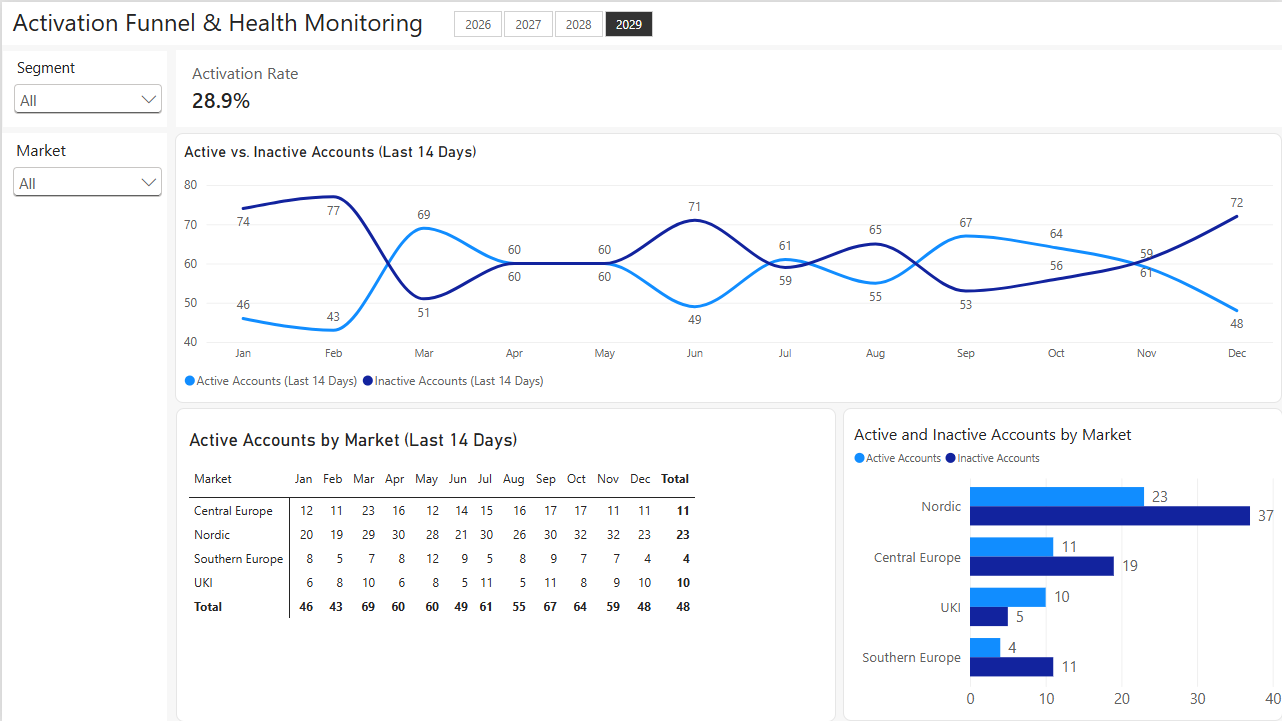

The page's visual inventory and layout, read from the dashboard file:
{"tool":"powerbi","page":{"name":" Activation Funnel & Health Monitoring","canvas":[1280,720],"ordinal":3},"visuals":[{"type":"textbox","box":[0,0,1280.4,43.5],"z":0},{"type":"slicer","fields":{"Values":["dim_date.Year"]},"box":[431,7,239,30],"z":1000},{"type":"slicer","fields":{"Values":["dim_date.Month (Short)"]},"box":[670,7,601,30],"z":2000},{"type":"cardVisual","fields":{"Data":["_Measures.Activation Rate"]},"box":[174.1,48.3,1106,76.7],"z":3000},{"type":"lineChart","title":"Active vs. Inactive Accounts (Last 14 Days)","fields":{"Category":["dim_date.Month (Short)"],"Y":["_Measures.Active Accounts (Last 14 Days)","_Measures.Inactive Accounts (Last 14 Days)"]},"box":[173.3,131,1106.9,269.8],"z":4000},{"type":"pivotTable","title":"Active Accounts by Market (Last 14 Days)","fields":{"Columns":["dim_date.Month (Short)"],"Rows":["gold_dim_accounts.Market"],"Values":["_Measures.Active Accounts (Last 14 Days)"]},"box":[174,406,660,314],"z":5000},{"type":"clusteredBarChart","title":"Active and Inactive Accounts by Market","fields":{"Category":["gold_dim_accounts.Market"],"Y":["_Measures.Active Accounts (Last 14 Days)","_Measures.Inactive Accounts (Last 14 Days)"]},"box":[841,406,440,313],"z":6000},{"type":"slicer","fields":{"Values":["gold_dim_accounts.Segment"]},"box":[0.9,49.1,163.8,75.9],"z":7000},{"type":"slicer","fields":{"Values":["gold_dim_accounts.Market"]},"box":[0,131,165,588],"z":8000}]}

Visuals, with their boxes in screenshot pixels (x1, y1, x2, y2), scaled from the page's 1280x720 canvas onto the 1282x721 screenshot:
textbox: rect(0, 0, 1281, 44)
slicer - dim_date.Year: rect(432, 7, 671, 37)
slicer - dim_date.Month (Short): rect(671, 7, 1273, 37)
cardVisual - _Measures.Activation Rate: rect(174, 48, 1281, 125)
"Active vs. Inactive Accounts (Last 14 Days)" lineChart: rect(174, 131, 1281, 401)
"Active Accounts by Market (Last 14 Days)" pivotTable: rect(174, 407, 835, 720)
"Active and Inactive Accounts by Market" clusteredBarChart: rect(842, 407, 1281, 720)
slicer - gold_dim_accounts.Segment: rect(1, 49, 165, 125)
slicer - gold_dim_accounts.Market: rect(0, 131, 165, 720)
